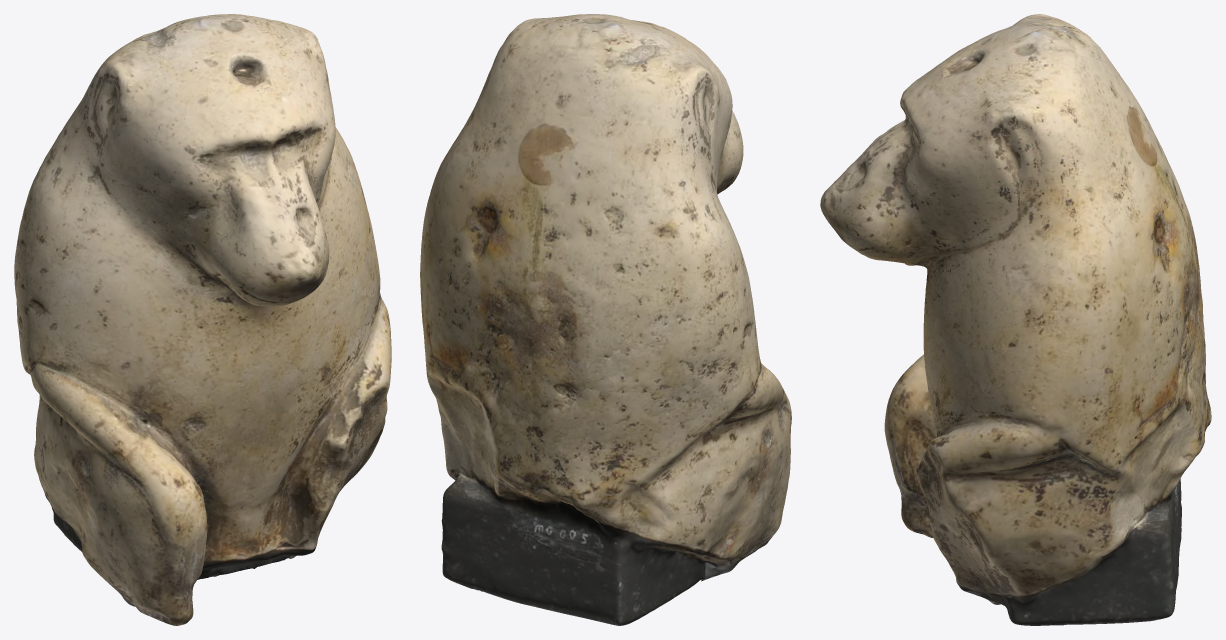
The model's file is thoth-baboon.glb.
The picture shows the model from 3 angles, left to right: view 1: azimuth 30°, elevation 25°; view 2: azimuth 150°, elevation 25°; view 3: azimuth 270°, elevation 25°; orthographic projection.
Visible parts, largest first — view 1: Object_2; view 2: Object_2; view 3: Object_2.
Part boxes in pixels (<box>): Object_2: <box>14,14,391,625</box>; Object_2: <box>420,14,791,625</box>; Object_2: <box>820,14,1211,625</box>.
Bounding box in the file's own units: 5.11 × 7.99 × 5.17.
Materials: 1 (1 with a texture image).
